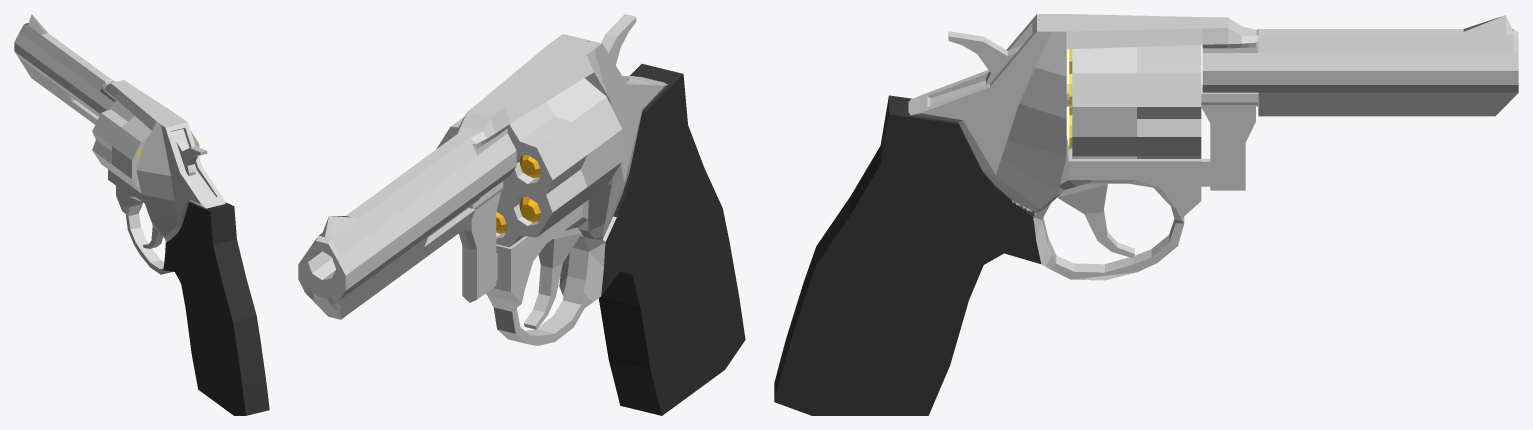
Rendered from Revolver.fbx.
3 views of the same model, side by side, from view 1: azimuth 30°, elevation 25°; view 2: azimuth 150°, elevation 25°; view 3: azimuth 270°, elevation 25° (orthographic). The views are drawn at different scales.
Visible parts, largest first — view 1: RevolverBase, RevolverCylinder, RevolverHammer, RevolverTrigger; view 2: RevolverBase, RevolverCylinder, RevolverLoader, RevolverTrigger, RevolverHammer, RevolverBullet.5; view 3: RevolverBase, RevolverCylinder, RevolverLoader, RevolverTrigger, RevolverHammer.
Part boxes in pixels (x1,y1,x2,y2): RevolverBase: (14,14,269,415); RevolverCylinder: (92,100,199,192); RevolverHammer: (176,139,207,175); RevolverTrigger: (143,223,163,248); RevolverBase: (298,34,745,415); RevolverCylinder: (436,78,622,247); RevolverLoader: (459,181,503,302); RevolverTrigger: (523,227,581,329); RevolverHammer: (601,14,636,64); RevolverBullet.5: (519,196,541,222); RevolverBase: (774,14,1518,415); RevolverCylinder: (1066,45,1201,158); RevolverLoader: (1201,84,1258,190); RevolverTrigger: (1057,183,1134,257); RevolverHammer: (948,31,1023,84).
Bounding box in the file's own units: 0.0434 × 0.1491 × 0.2569.
